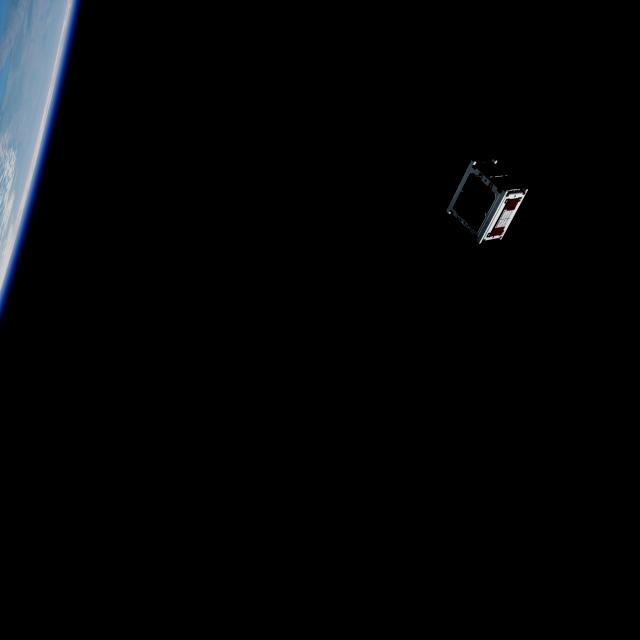medium_debris: (439, 155, 526, 250)
